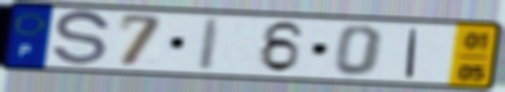0: (332, 23, 386, 79)
6: (255, 20, 306, 76)
7: (114, 12, 169, 69)
I: (195, 16, 226, 73), (402, 27, 421, 81)
S: (49, 8, 113, 70)
